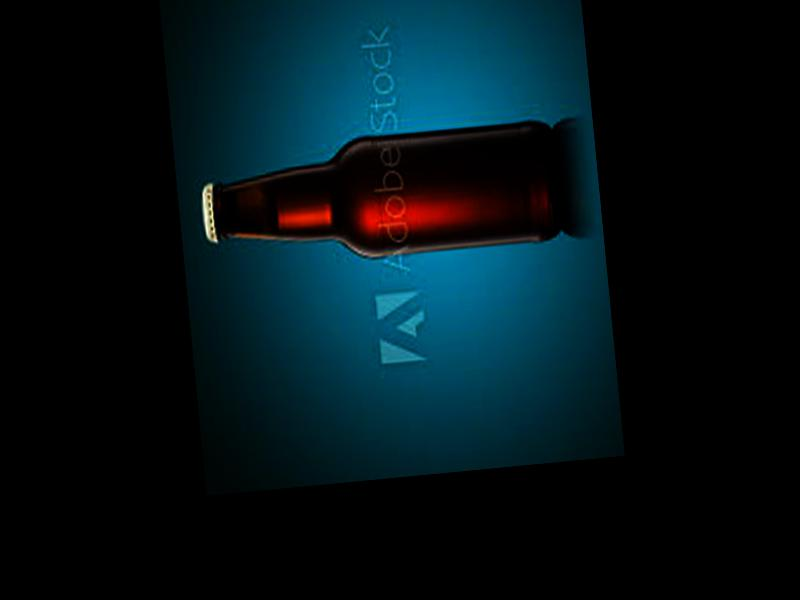Beer: (196, 117, 564, 272)
